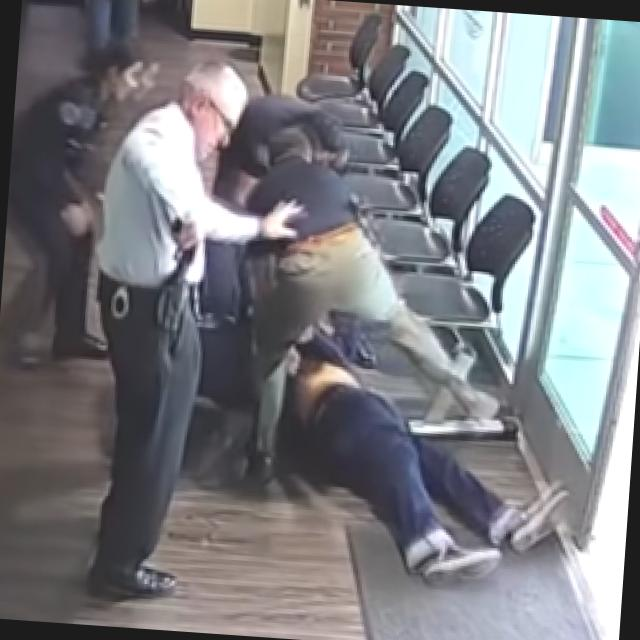person: (68, 52, 312, 608), (225, 122, 518, 505), (264, 322, 578, 590), (0, 36, 153, 367), (210, 87, 348, 211), (68, 0, 158, 55)
